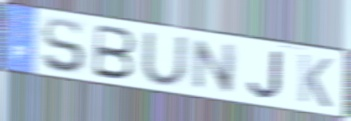B: (90, 22, 138, 82)
J: (246, 48, 284, 101)
K: (296, 52, 334, 111)
N: (190, 37, 240, 95)
S: (40, 17, 88, 76)
U: (140, 30, 190, 89)
